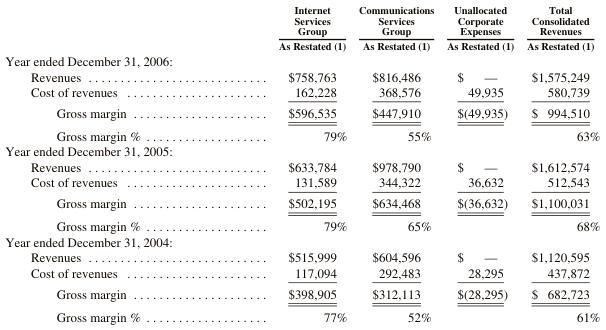table: (4, 3, 599, 323)
table column: (4, 3, 208, 323), (208, 3, 352, 323), (352, 3, 439, 323), (439, 3, 519, 323), (519, 3, 599, 323)
table column header: (4, 3, 599, 52)
table projected row header: (4, 52, 599, 68), (4, 233, 599, 249), (4, 143, 599, 158)
table row: (4, 3, 599, 52), (4, 101, 599, 123), (4, 192, 599, 214), (4, 282, 599, 304), (4, 123, 599, 143), (4, 214, 599, 233), (4, 304, 599, 323), (4, 83, 599, 101), (4, 174, 599, 192), (4, 264, 599, 282), (4, 52, 599, 68), (4, 158, 599, 174), (4, 233, 599, 249), (4, 68, 599, 83), (4, 143, 599, 158), (4, 249, 599, 264)
